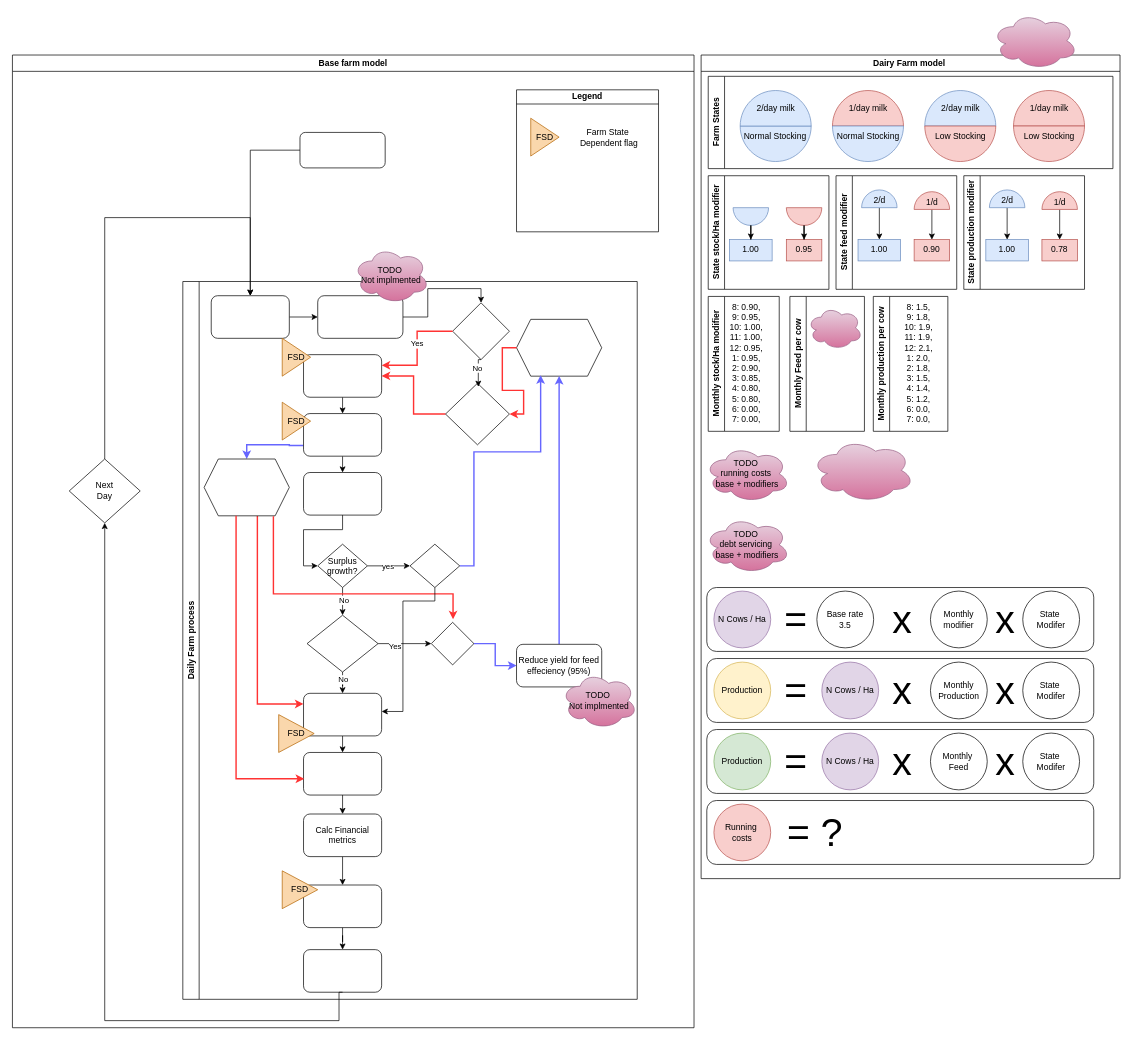
This 1132x1040 diagram has some shape labels left out. The shapes that lost their labels are listed below. From the top down, each one's centre as x and y in pixels, then its label:
(1034,40): TODO different dairy types?
(342,150): Set Start Variables
(750,216): norm
(804,216): Low
(250,316): Pasture Growth (from BASGRA)
(360,316): Reduce yield for feed effeciency (80%)
(480,331): Growth sufficient
(834,327): TODO
(559,347): Feed Store efficient DM
(342,375): Feed Stock
(342,434): Produce and sell product
(477,414): supplement from store
(246,487): $$$$ Store
(862,470): TODO State transformation triggers
(342,493): Import feed or Cut and store feed
(434,566): Store surplus
(342,643): Store below threshold?
(452,643): import feed
(342,714): Calc Running cost
(342,773): Calc debt service
(342,906): Change Between Farm States?
(342,970): Reset Farm state DOY?
